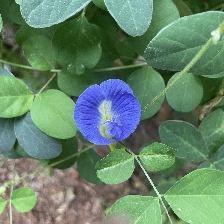shankupushpam: (74, 78, 146, 148)
